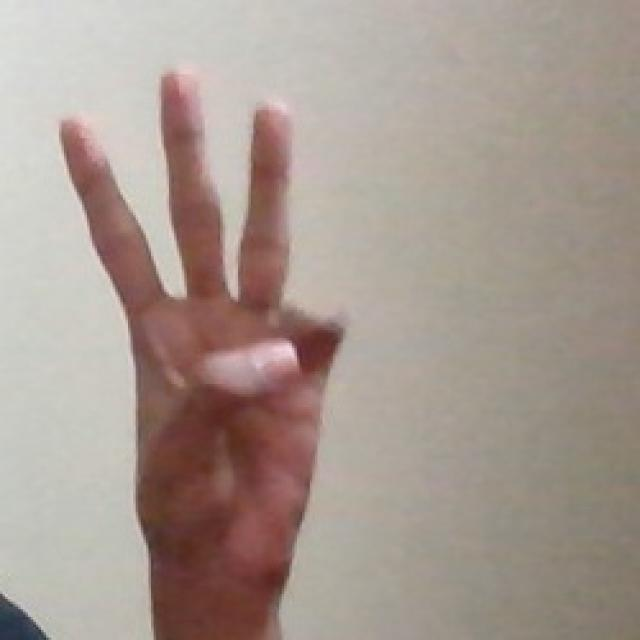Numeric-6: (53, 57, 354, 600)
